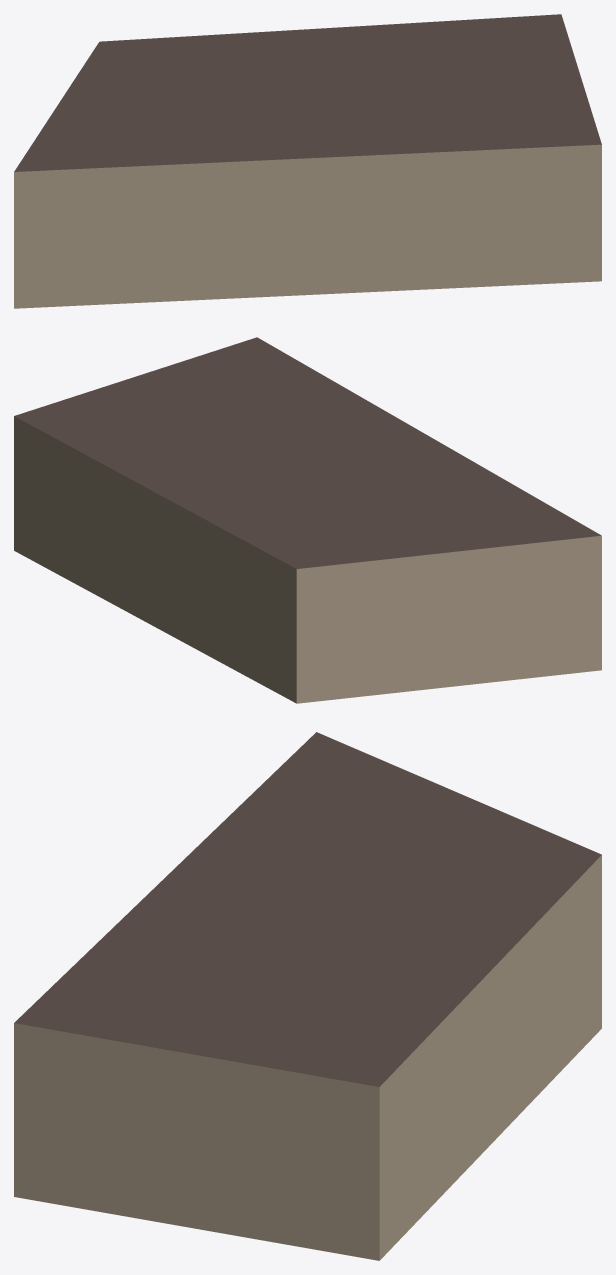
3 views of the same model, one above another, from view 1: azimuth 30°, elevation 25°; view 2: azimuth 150°, elevation 25°; view 3: azimuth 270°, elevation 25° (orthographic). The views are drawn at different scales.
Parts seen in each view (by area): view 1: HP-w298132748; view 2: HP-w298132748; view 3: HP-w298132748.
Part boxes in pixels (x1=…): HP-w298132748: x1=14, y1=14, x2=601, y2=308; HP-w298132748: x1=14, y1=337, x2=601, y2=703; HP-w298132748: x1=14, y1=732, x2=601, y2=1260.
Bounding box in the file's own units: 39.42 × 9 × 27.59.
